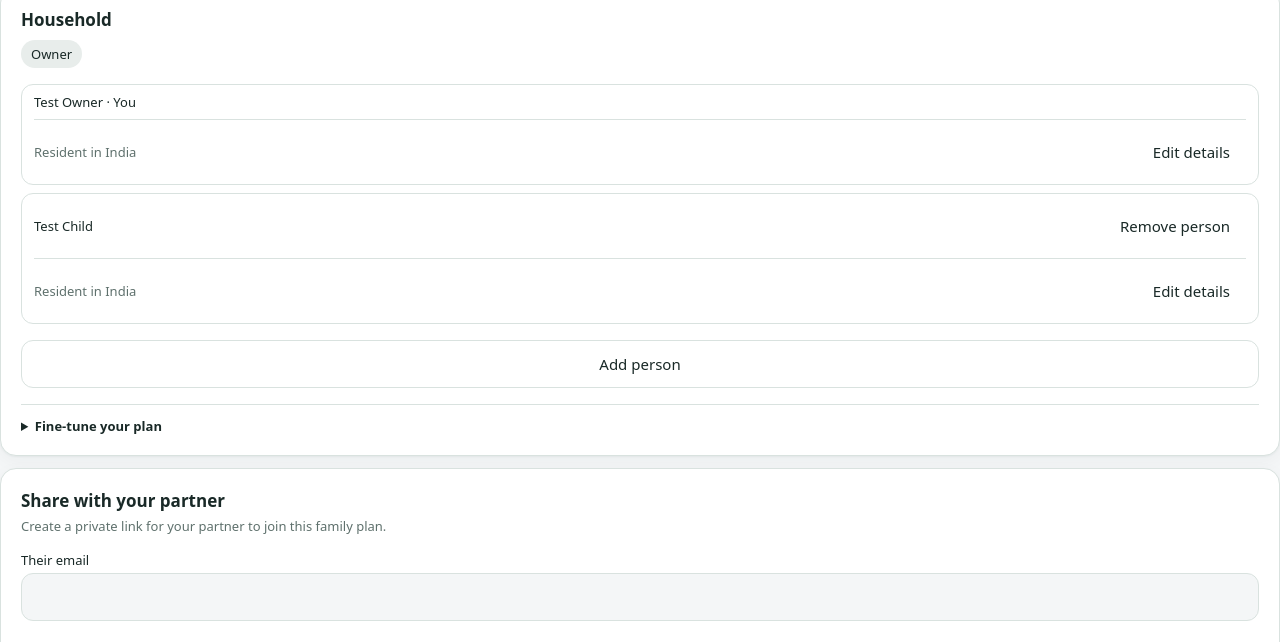
Scenario: Settings › explains an invite conflict for member_already_linked
Expected: the heading "Share with your partner" is shown, x1=21 y1=489 x2=225 y2=512
Type "partner@example.test" into the field labelled "Their email".
click(640, 597); type("partner@example.test")  # box x1=21 y1=573 x2=1259 y2=621
(page scrolled)
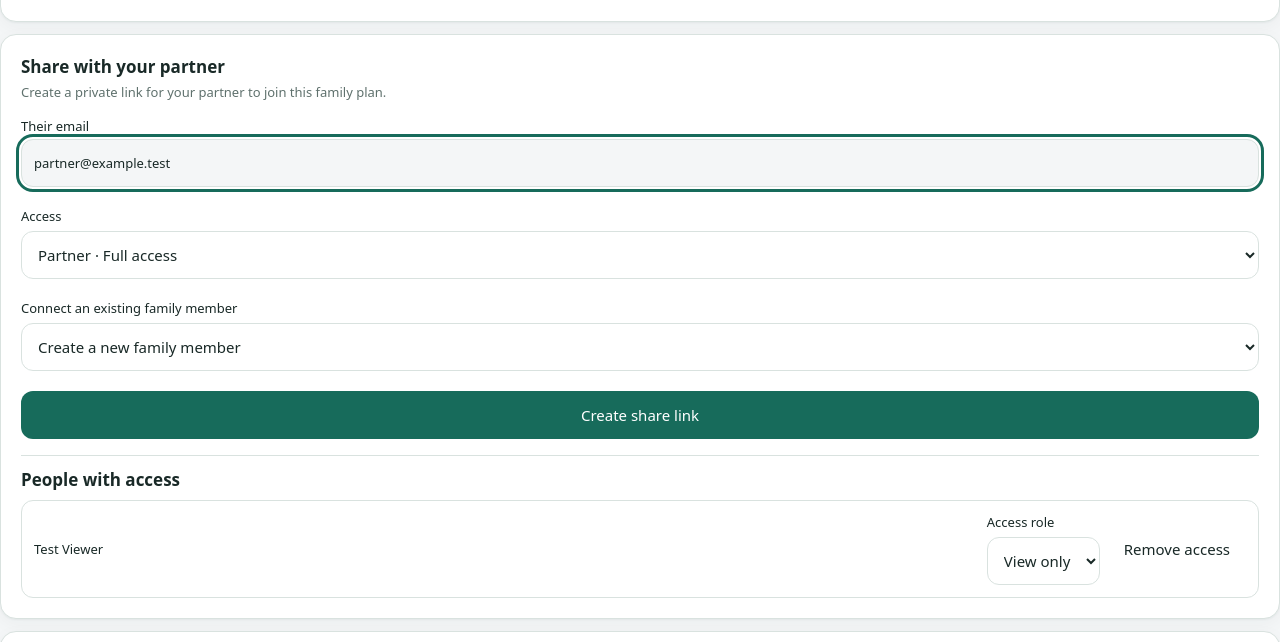
Select "Test Child" in the dropdown labelled "Connect an existing family member" at (640, 347), box x1=21 y1=323 x2=1259 y2=371
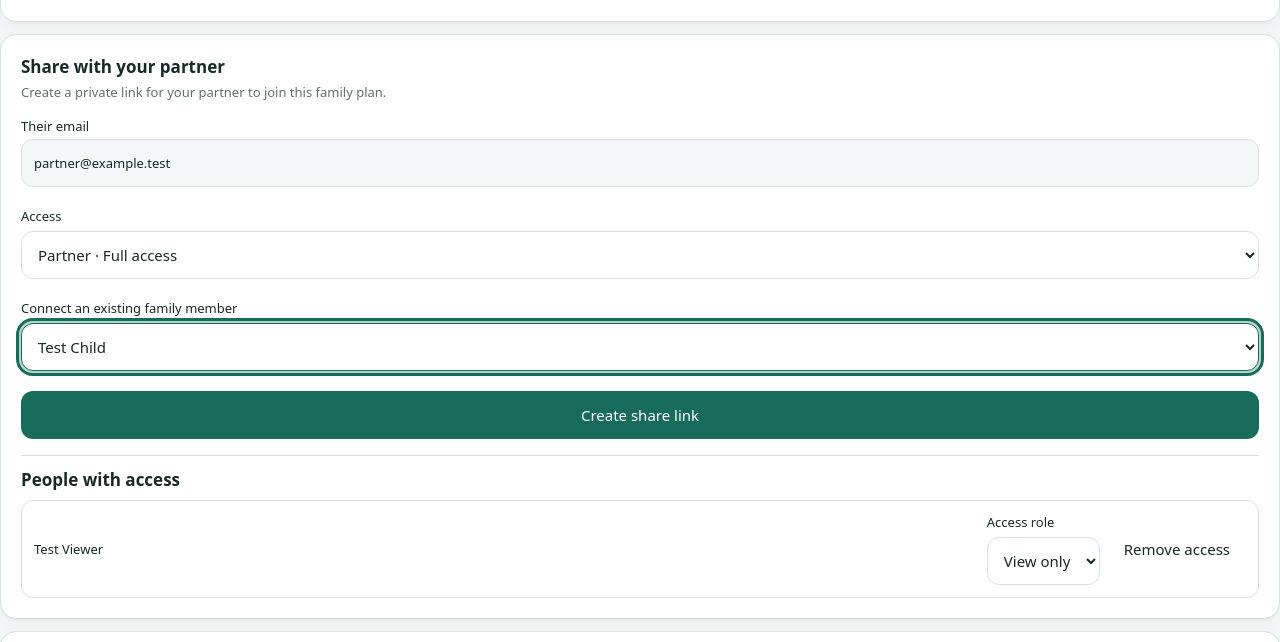
Click the button "Create share link".
click(640, 415)  # box x1=21 y1=391 x2=1259 y2=439
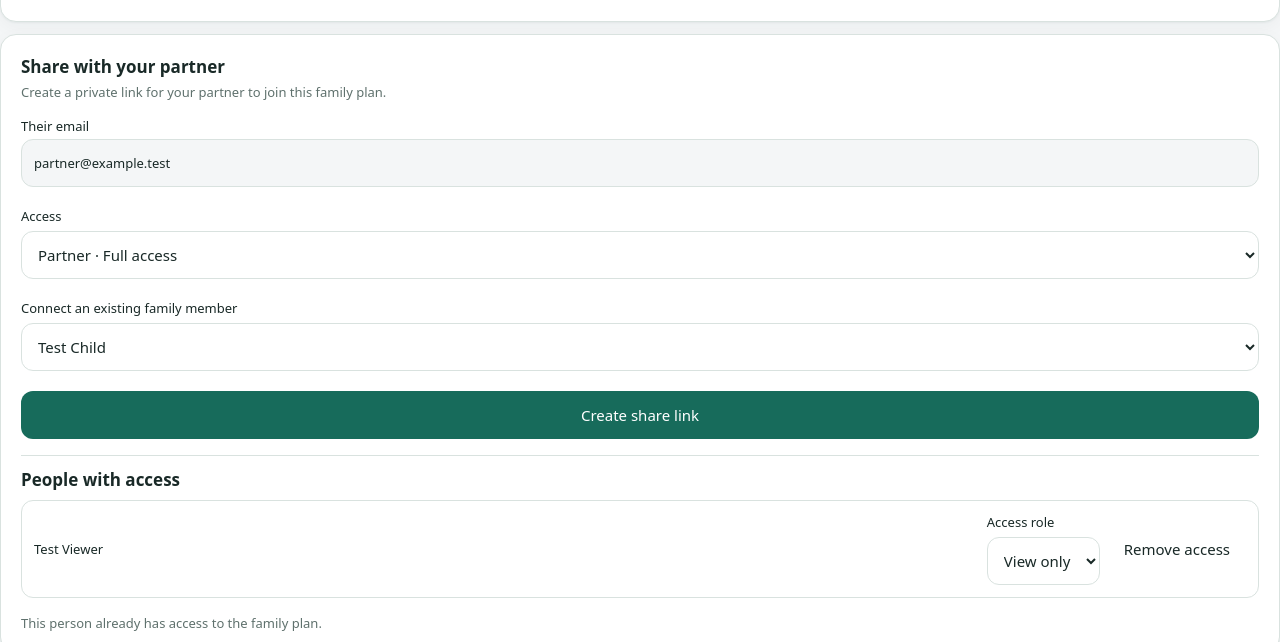
Now the message reads "This person already has access to the family plan.", box x1=21 y1=614 x2=322 y2=632
